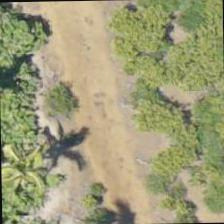Kelapa_Sawit: (0, 115, 74, 206)
